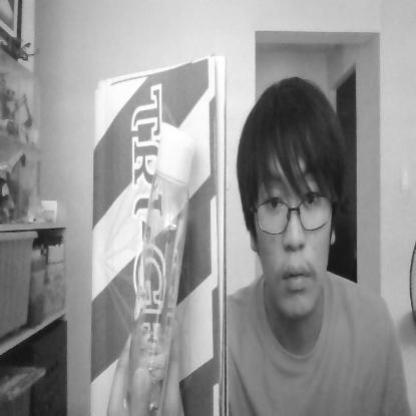Plastic Bottle: (112, 121, 200, 416)
